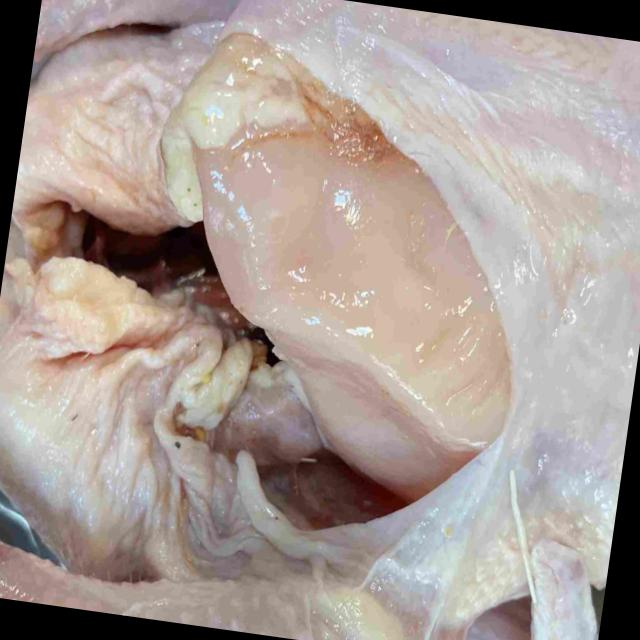breast: (178, 0, 640, 595)
leg: (0, 536, 463, 640)
wing: (463, 547, 588, 640)
